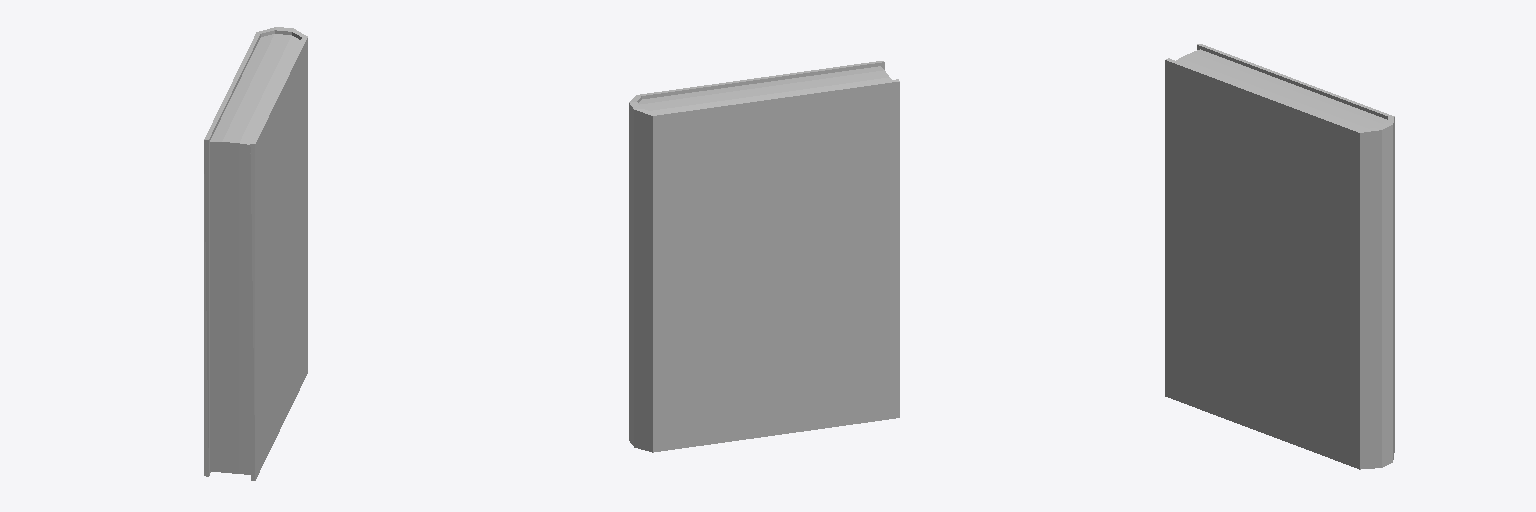
File: book.obj
The picture shows the model from 3 angles: view 1: azimuth 30°, elevation 25°; view 2: azimuth 150°, elevation 25°; view 3: azimuth 270°, elevation 25°; orthographic projection.
Parts seen in each view (by area): view 1: book; view 2: book; view 3: book.
Part boxes in pixels (x1,y1,x2,y2): book: (204, 27, 307, 480); book: (629, 61, 899, 452); book: (1165, 44, 1394, 469).
Bounding box in the file's own units: 1.42 × 2.5 × 1.53.